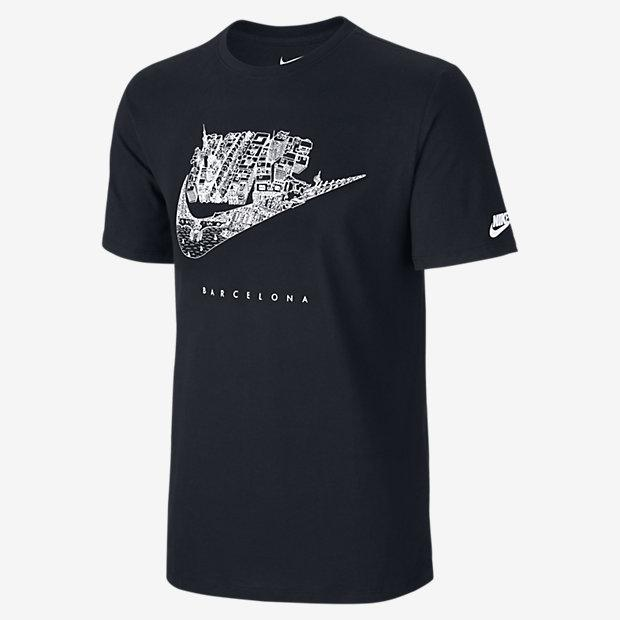teeshirt: (89, 9, 562, 620)
